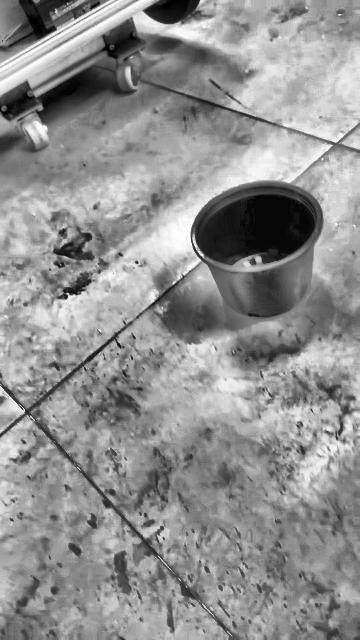pot: (192, 181, 323, 317)
